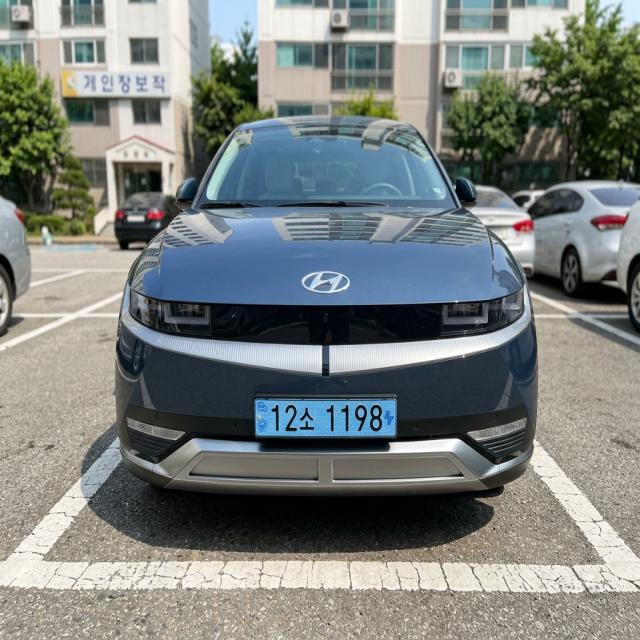car: (239, 381, 421, 457)
carev: (253, 398, 272, 440), (382, 398, 398, 442)
